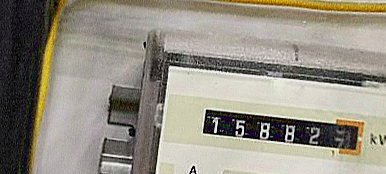1: (208, 114, 220, 132)
2: (307, 123, 321, 145)
5: (230, 116, 246, 137)
7: (331, 133, 344, 147)
8: (281, 120, 296, 143), (257, 118, 271, 140)
screen: (196, 99, 368, 159)
